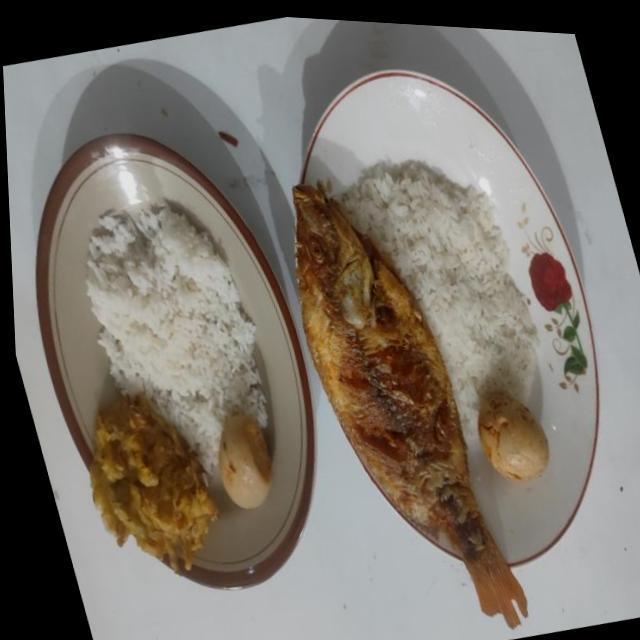ikan_mujair: (293, 182, 526, 627)
nasi_putih: (337, 160, 538, 434), (85, 203, 268, 473)
